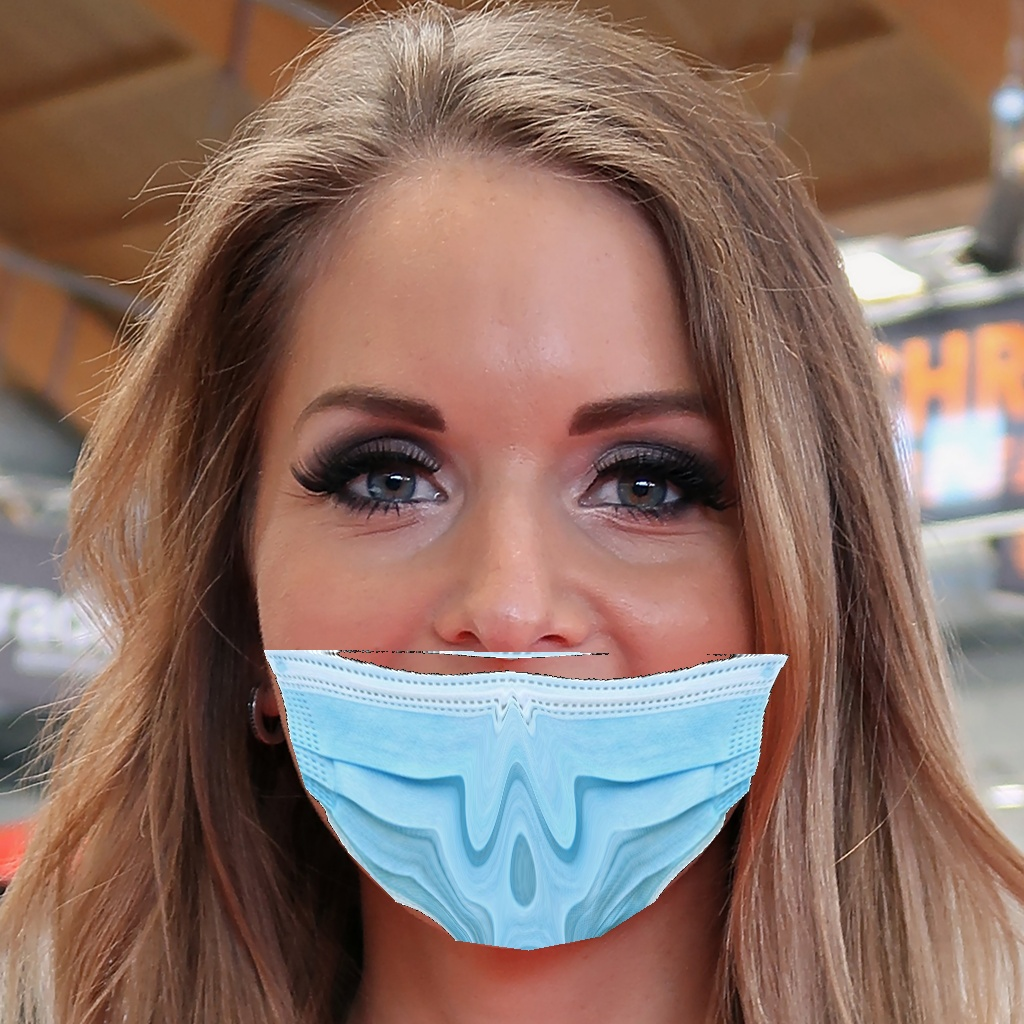mascarilla_mal_puesta: (159, 328, 909, 975)
